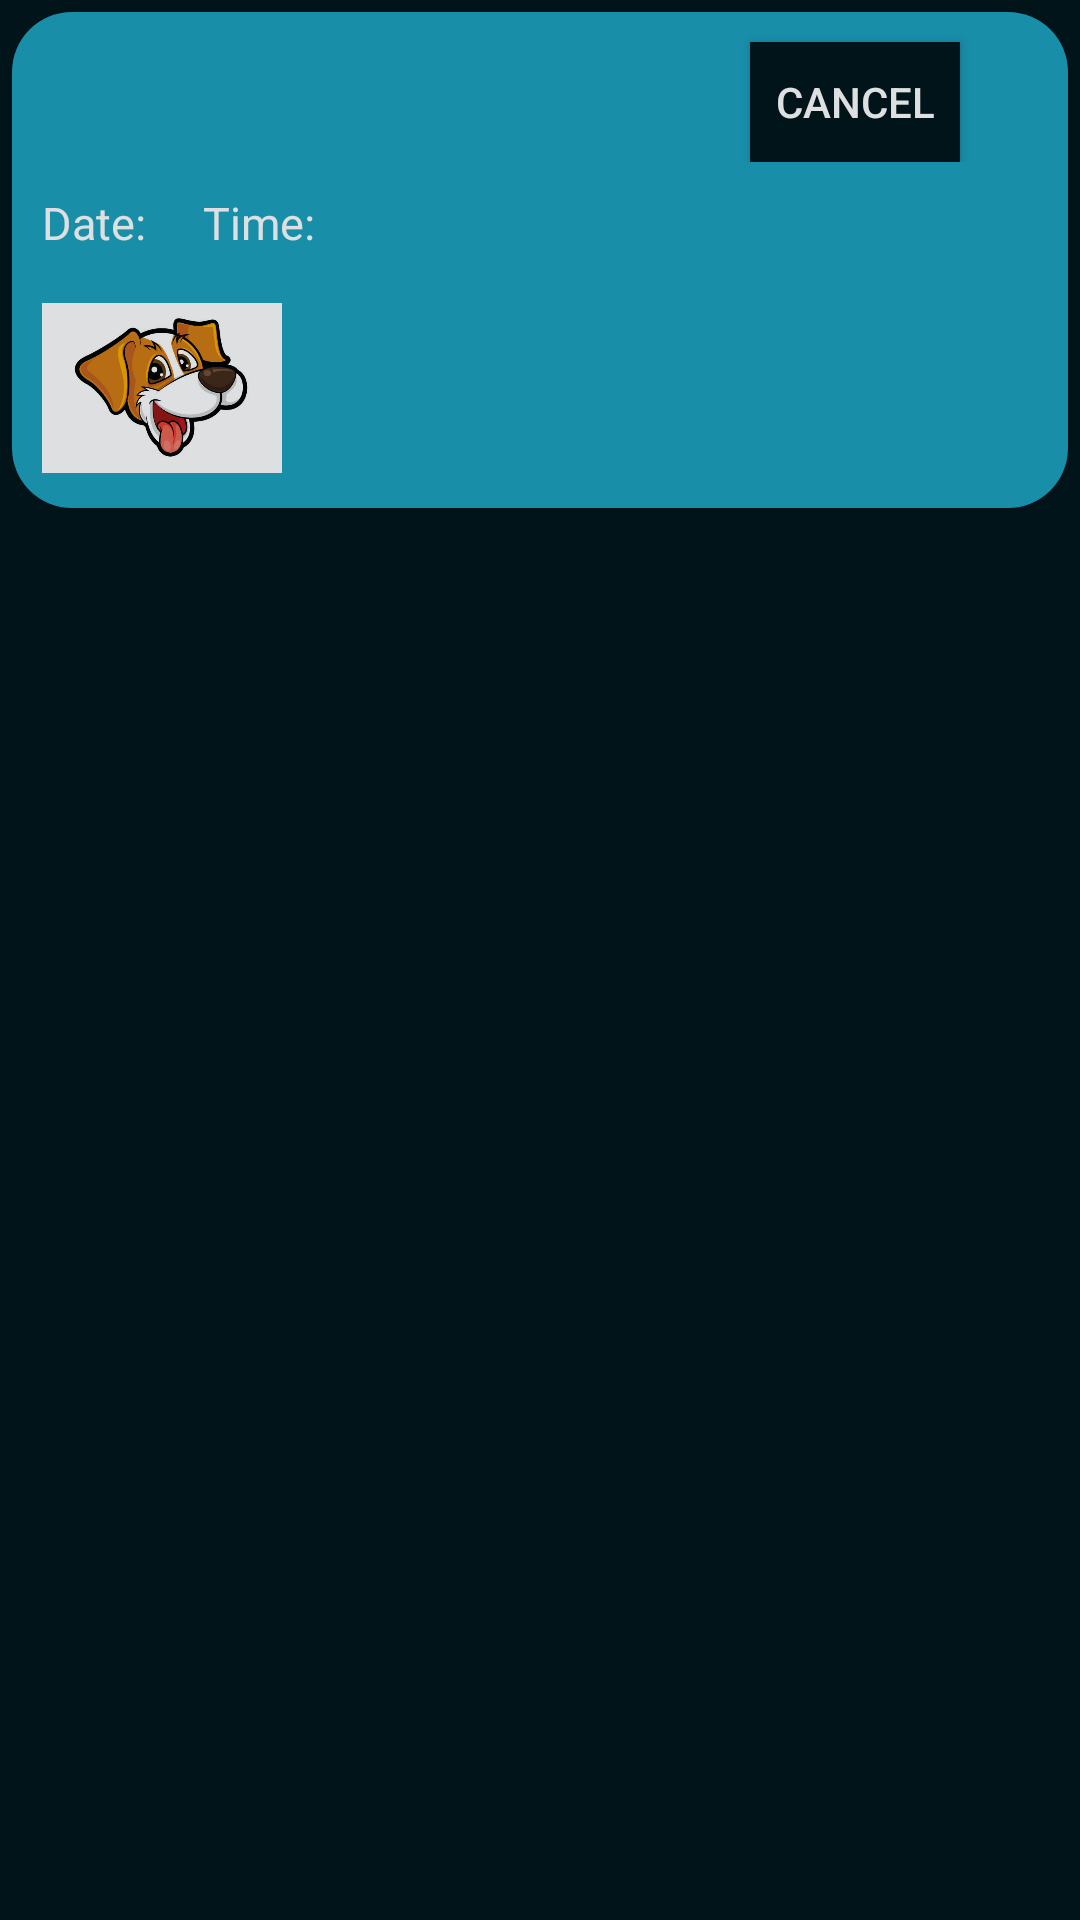

Screen size 1080*1920. Icon name, then its box in pixels as (x1, y1, x2, y2):
littledog: (42, 303, 282, 473)
